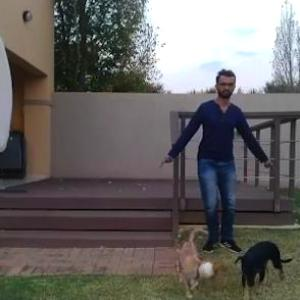land: (160, 73, 268, 259)
